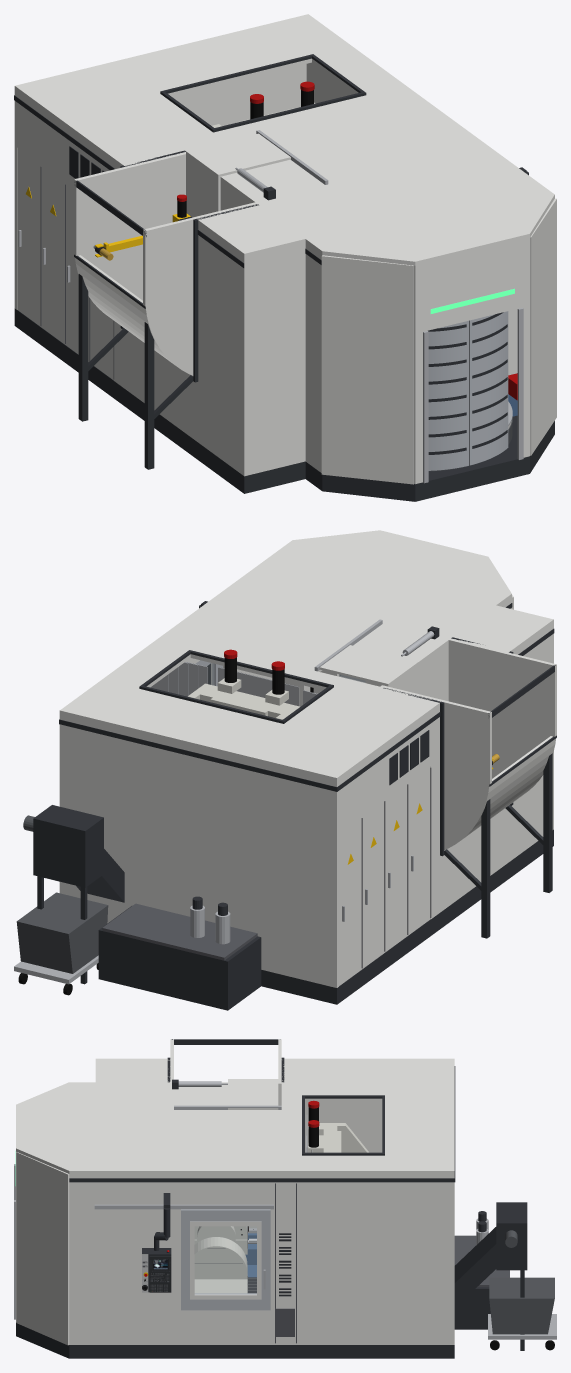
File: hmc_x1000_5ax_white_right.glb
3 renders of one model, top to bottom at view 1: azimuth 30°, elevation 25°; view 2: azimuth 150°, elevation 25°; view 3: azimuth 270°, elevation 25°, orthographic. The views are drawn at different scales.
Visible parts, largest first — view 1: enclosure__hmc_white, apc_housing__hmc_white, tc_box__hmc_white, electrical_cabinet__hmc_white, enclosure__anthracite, apc_housing__anthracite, apc_door_left__door_grey, apc_door_right__door_grey, tc_box__anthracite, tc_door__hmc_white, apc_housing__steel, apc_door_left__anthracite (+3 smaller); view 2: enclosure__hmc_white, tc_box__hmc_white, chip_coolant__anthracite, electrical_cabinet__hmc_white, enclosure__anthracite, apc_housing__hmc_white, chip_cart__steel_dark, tc_box__anthracite, chip_coolant__anthracite_lt, tc_door__hmc_white, column__struct_grey, electrical_cabinet__anthracite_lt (+5 smaller); view 3: enclosure__hmc_white, apc_housing__hmc_white, enclosure__anthracite, chip_coolant__anthracite, operator_door__glass_clear, operator_door__door_grey, chip_cart__steel_dark, table__struct_grey, enclosure__steel, operator_door__hmc_white, tc_door__hmc_white, column__struct_grey (+8 smaller).
Boxes of the visible parts, x1,y1,x2,y2 form: enclosure__hmc_white: (14,14,537,476); apc_housing__hmc_white: (305,182,556,484); tc_box__hmc_white: (74,152,257,375); electrical_cabinet__hmc_white: (17,148,113,380); enclosure__anthracite: (14,54,366,493); apc_housing__anthracite: (305,248,554,501); apc_door_left__door_grey: (428,320,468,470); apc_door_right__door_grey: (469,311,508,465); tc_box__anthracite: (74,179,193,469); tc_door__hmc_white: (186,133,290,217); apc_housing__steel: (423,307,523,483); apc_door_left__anthracite: (428,324,466,454); enclosure__hmc_white: (59,552,553,987); tc_box__hmc_white: (384,638,556,849); chip_coolant__anthracite: (33,805,261,1010); electrical_cabinet__hmc_white: (339,766,430,985); enclosure__anthracite: (59,626,554,1004); apc_housing__hmc_white: (277,530,513,691); chip_cart__steel_dark: (16,892,108,973); tc_box__anthracite: (444,665,556,938); chip_coolant__anthracite_lt: (102,903,257,960); tc_door__hmc_white: (319,645,418,693); column__struct_grey: (188,678,299,719); electrical_cabinet__anthracite_lt: (361,767,431,968); enclosure__hmc_white: (95,1058,454,1344); apc_housing__hmc_white: (16,1082,95,1345); enclosure__anthracite: (95,1057,455,1358); chip_coolant__anthracite: (454,1202,527,1350); operator_door__glass_clear: (195,1227,256,1293); operator_door__door_grey: (181,1209,270,1310); chip_cart__steel_dark: (489,1277,554,1334); table__struct_grey: (194,1226,247,1293); enclosure__steel: (94,1081,281,1209); operator_door__hmc_white: (190,1221,261,1299); tc_door__hmc_white: (228,1079,278,1109); column__struct_grey: (308,1123,368,1152).
Size of the model in its own units: 5.06 by 3.22 by 7.86.
20 materials, 2 textured.
